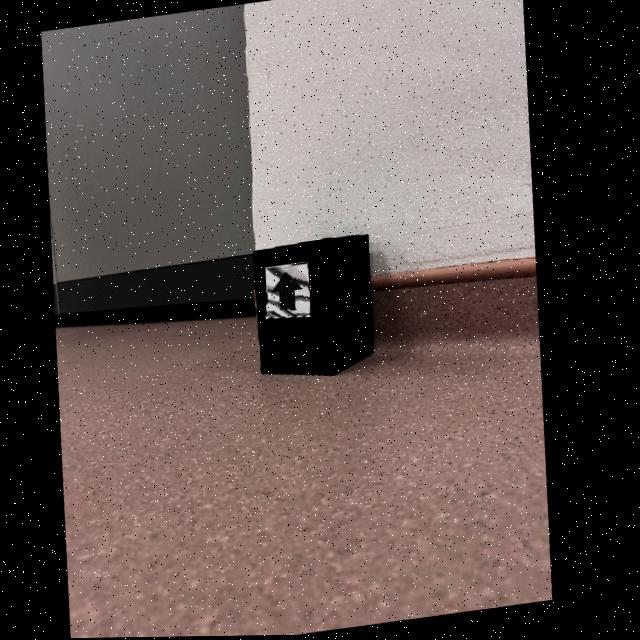UP: (277, 273, 308, 311)
